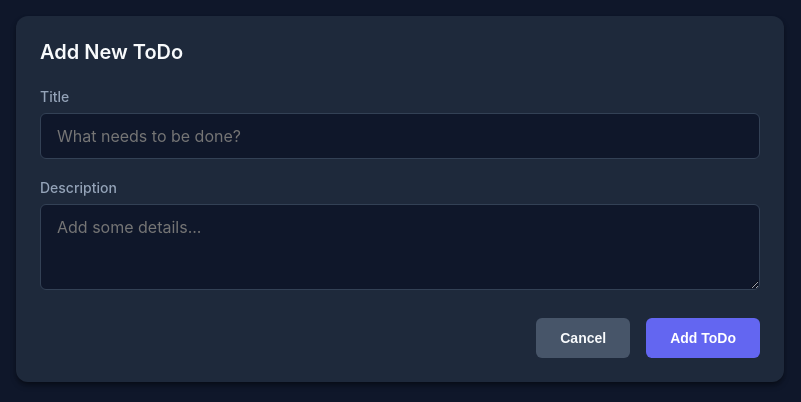
ToDoForm.vue › clears form after adding new ToDo
Type "Task to clear" into the field with id "title" at x=400, y=136, box top-left (40, 113), bottom-right (760, 159)
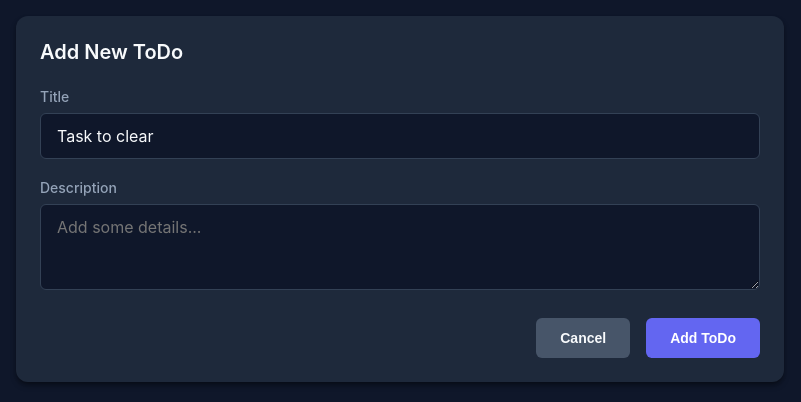
Type "Should be cleared" into the text box with id "description" at x=400, y=247, box top-left (40, 204), bottom-right (760, 290)
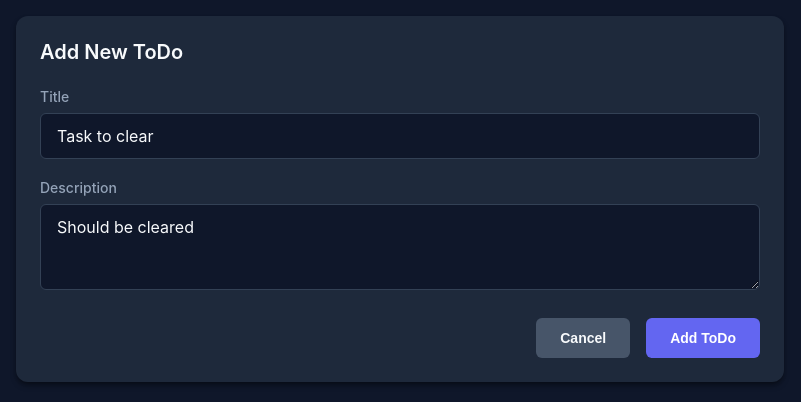
Submit the form
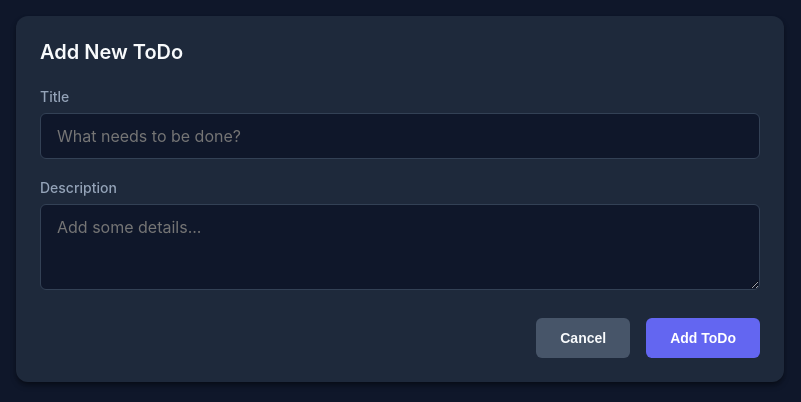
expect the field with id "title" is empty: met, box top-left (40, 113), bottom-right (760, 159)
expect the text box with id "description" is empty: met, box top-left (40, 204), bottom-right (760, 290)
